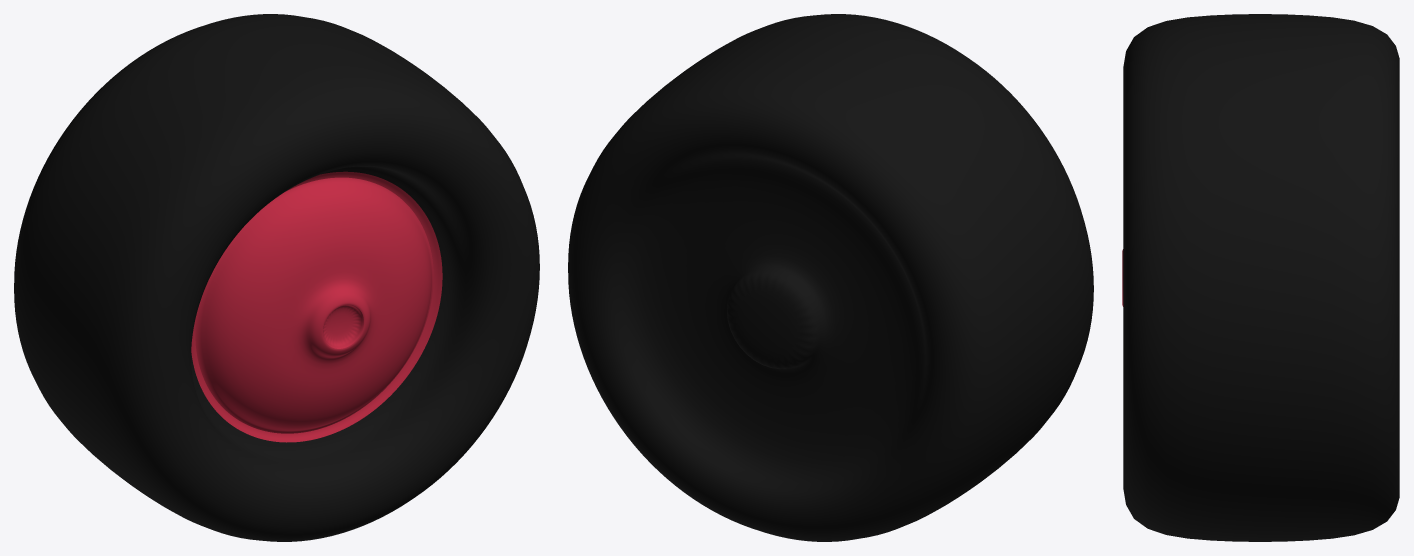
File: wheel_fr_aligned.dae
3 views of the same model, side by side, from view 1: azimuth 30°, elevation 25°; view 2: azimuth 150°, elevation 25°; view 3: azimuth 270°, elevation 25° (orthographic). The views are drawn at different scales.
Parts seen in each view (by area): view 1: Circle.003; view 2: Circle.003; view 3: Circle.003.
Boxes of the visible parts, box(x1,y1,x2,y2) form: Circle.003: box(14, 14, 539, 541); Circle.003: box(568, 14, 1093, 541); Circle.003: box(1122, 14, 1399, 541).
Size of the model in its own units: 1.14 by 0.5991 by 1.14.
